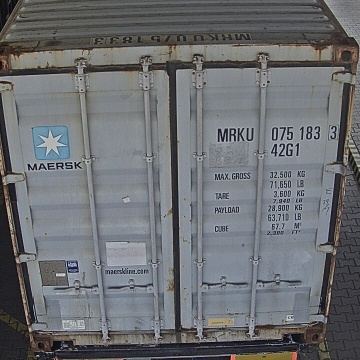serial_id: (217, 125, 338, 142)
